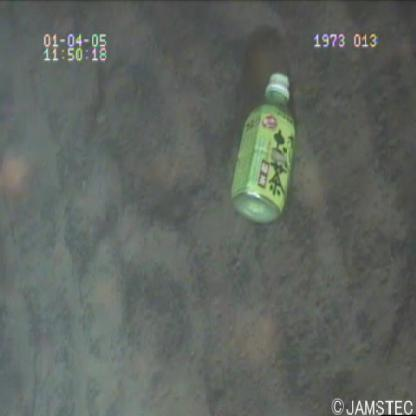Rác: (224, 60, 306, 230)
